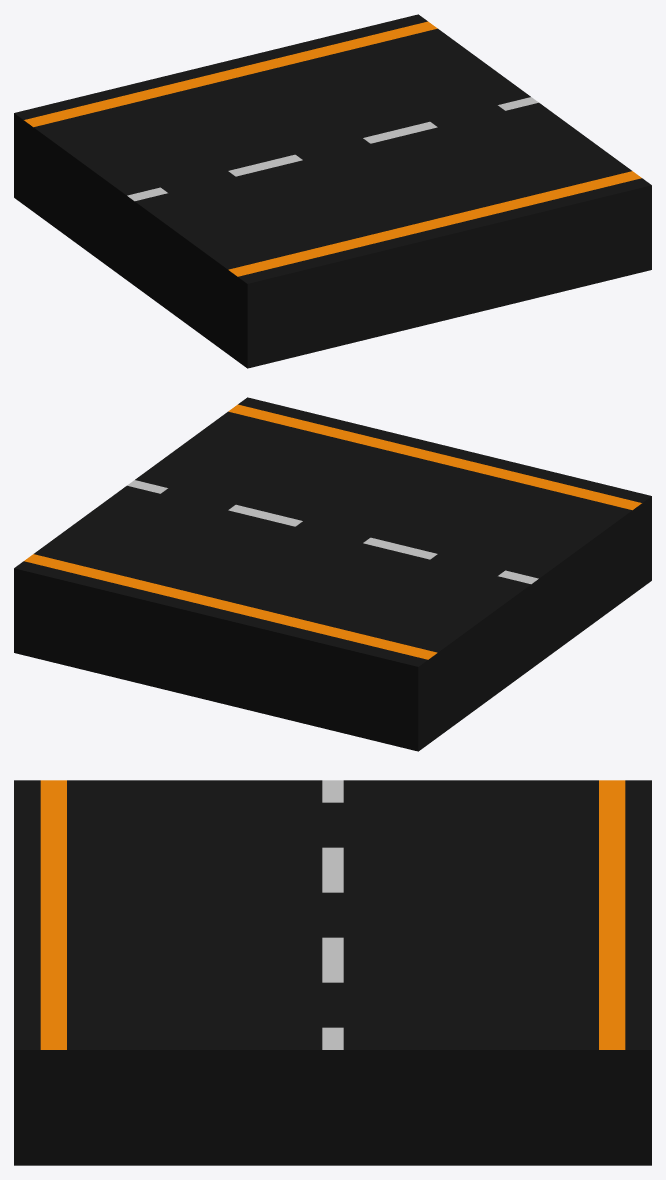
The model's file is straight_road.obj.
The picture shows the model from 3 angles, top to bottom: view 1: azimuth 30°, elevation 25°; view 2: azimuth 150°, elevation 25°; view 3: azimuth 270°, elevation 25°; orthographic projection. The views are drawn at different scales.
Parts seen in each view (by area): view 1: Cube_Cube.004; view 2: Cube_Cube.004; view 3: Cube_Cube.004.
Part boxes in pixels (<box>): Cube_Cube.004: <box>14,14,651,368</box>; Cube_Cube.004: <box>14,397,651,751</box>; Cube_Cube.004: <box>14,780,651,1165</box>.
Bounding box in the file's own units: 1 × 0.2 × 1.
